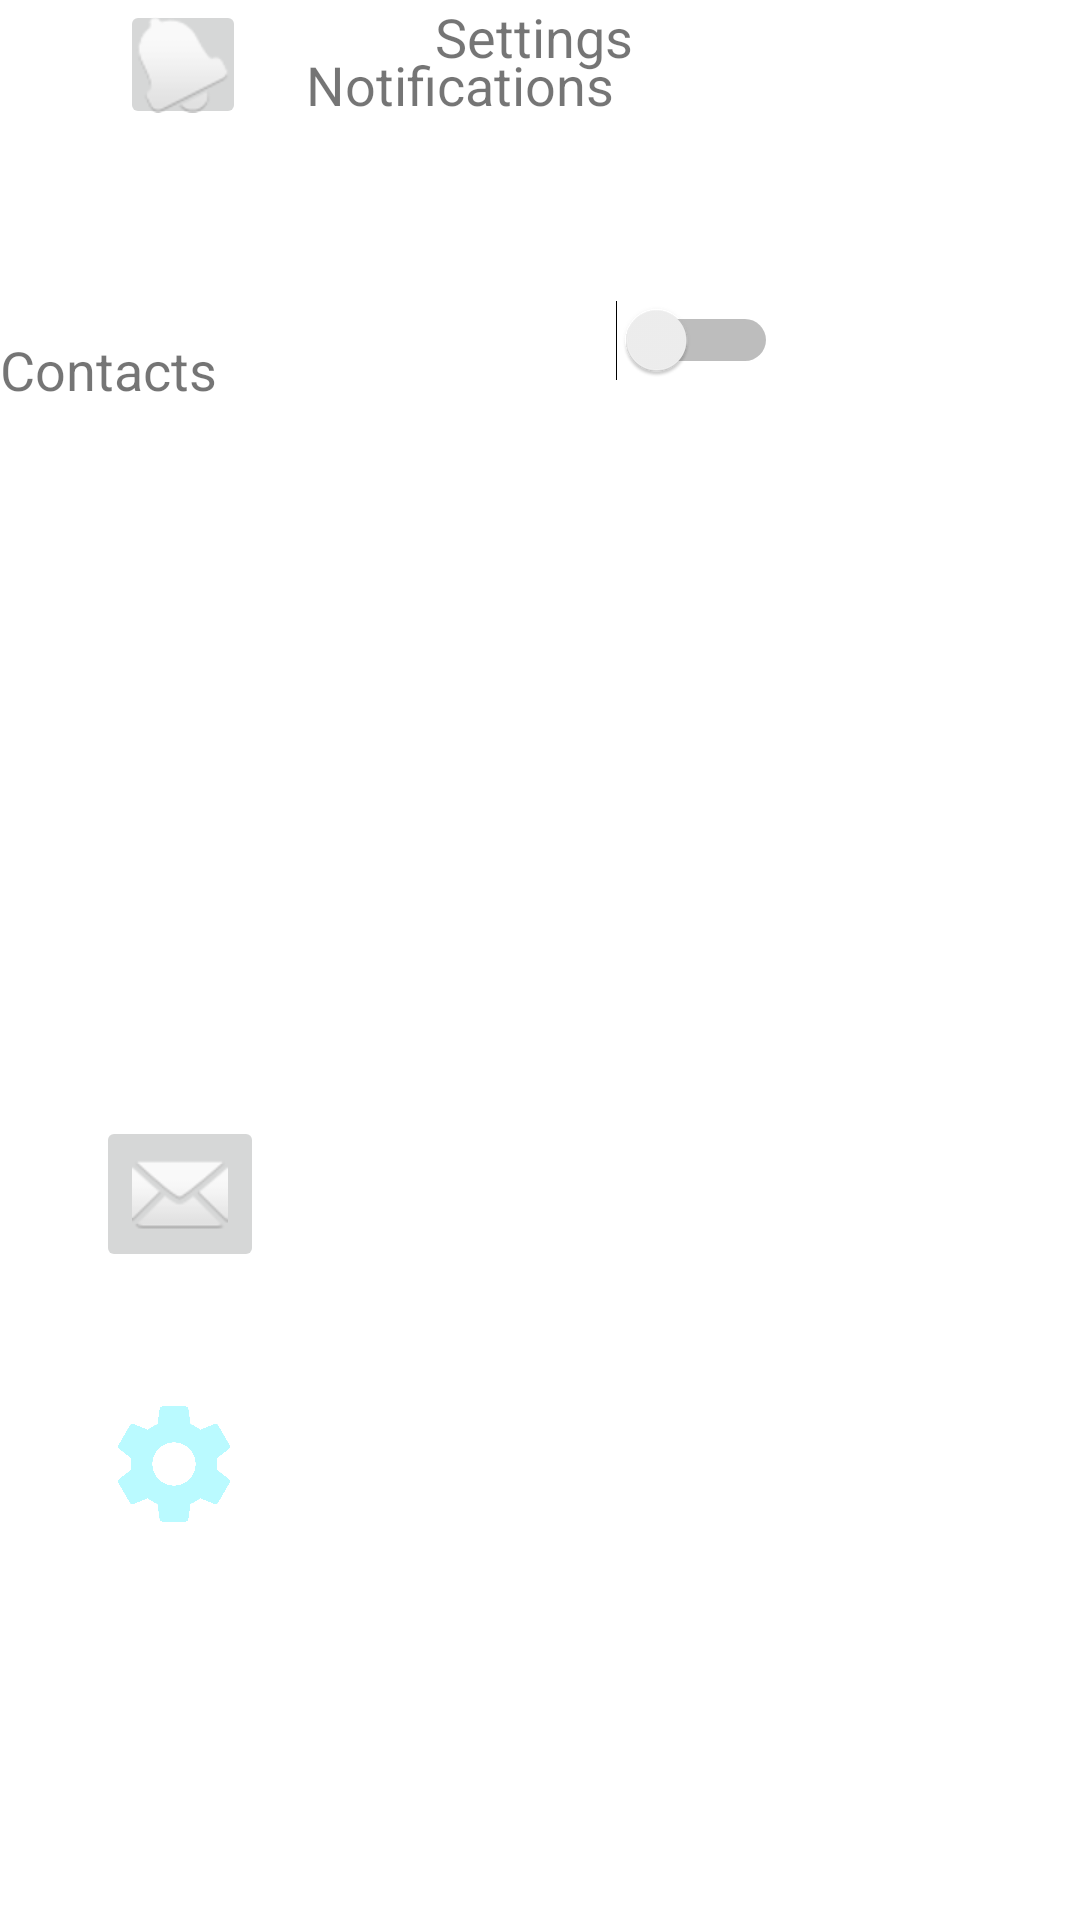

Where to tap for icons on this 1080w x 1920h app screen, as (x=x, y=y):
email: (x=180, y=1194)
popup reminder: (x=183, y=65)
settings: (x=174, y=1464)
